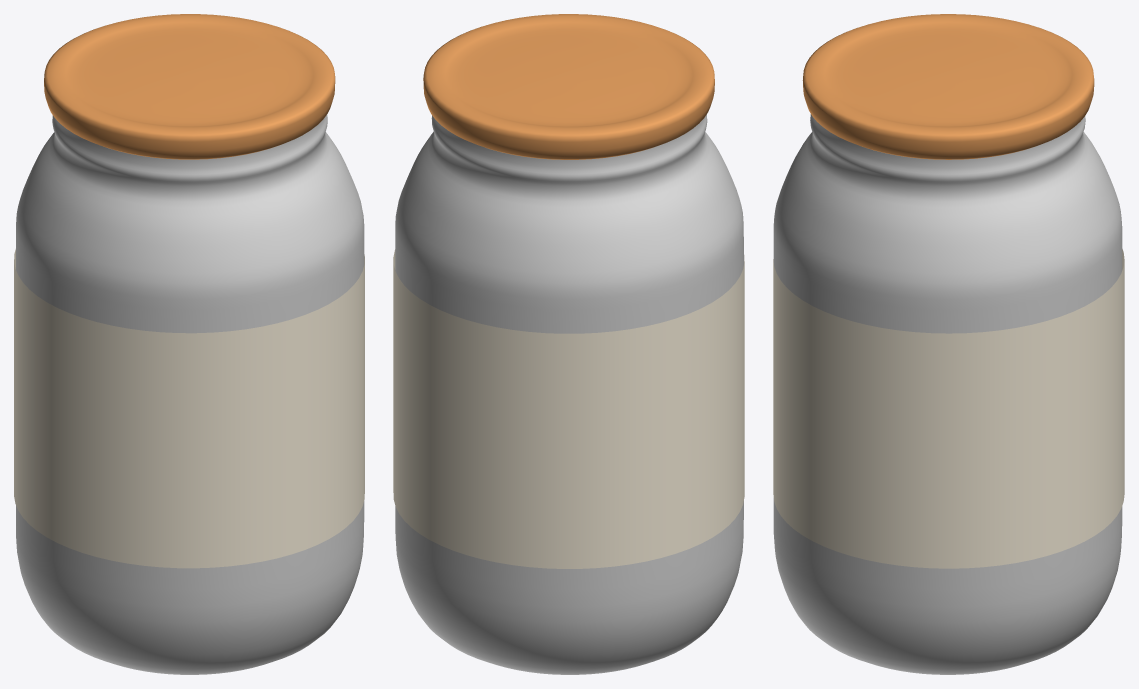
File: jar.glb
3 views of the same model, side by side, from view 1: azimuth 30°, elevation 25°; view 2: azimuth 150°, elevation 25°; view 3: azimuth 270°, elevation 25° (orthographic).
Parts seen in each view (by area): view 1: Frasco_2, Etiqueta_5, Tapa_4; view 2: Frasco_2, Etiqueta_5, Tapa_4; view 3: Frasco_2, Etiqueta_5, Tapa_4.
Part boxes in pixels (left/top/right/bottom): Frasco_2: left=16, top=115, right=364, bottom=674; Etiqueta_5: left=14, top=249, right=364, bottom=568; Tapa_4: left=44, top=14, right=335, bottom=159; Frasco_2: left=395, top=114, right=743, bottom=674; Etiqueta_5: left=393, top=249, right=744, bottom=568; Tapa_4: left=423, top=14, right=714, bottom=159; Frasco_2: left=773, top=114, right=1122, bottom=674; Etiqueta_5: left=773, top=249, right=1124, bottom=568; Tapa_4: left=802, top=14, right=1094, bottom=159.
Bounding box in the file's own units: 1.21 × 2.16 × 1.21.
